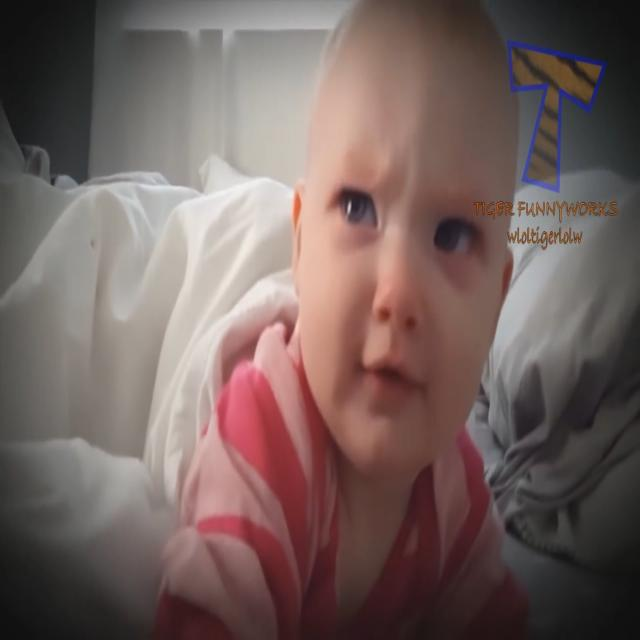safe: (280, 0, 513, 640)
